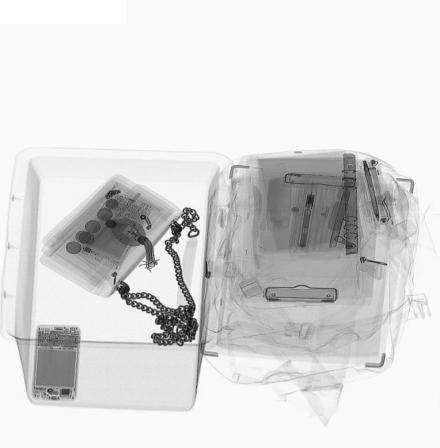Knife: (261, 287, 340, 304)
